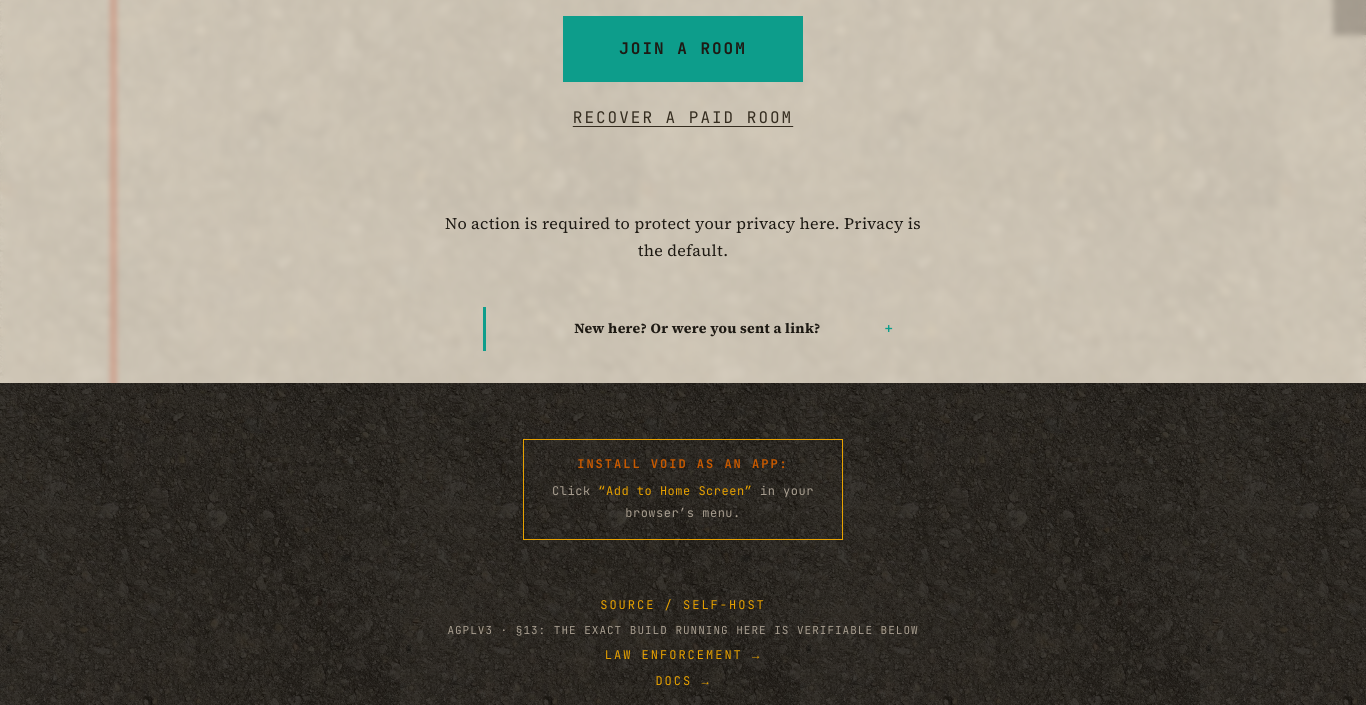
LandingPage narrative order and copy › collapses the on-ramp by default and expands it on click
(page scrolled)
Check: the text "You’re in the right place." is not shown
Click the button with test id "on-ramp-toggle". click: x=698, y=329
box: 502,319 -> 893,339
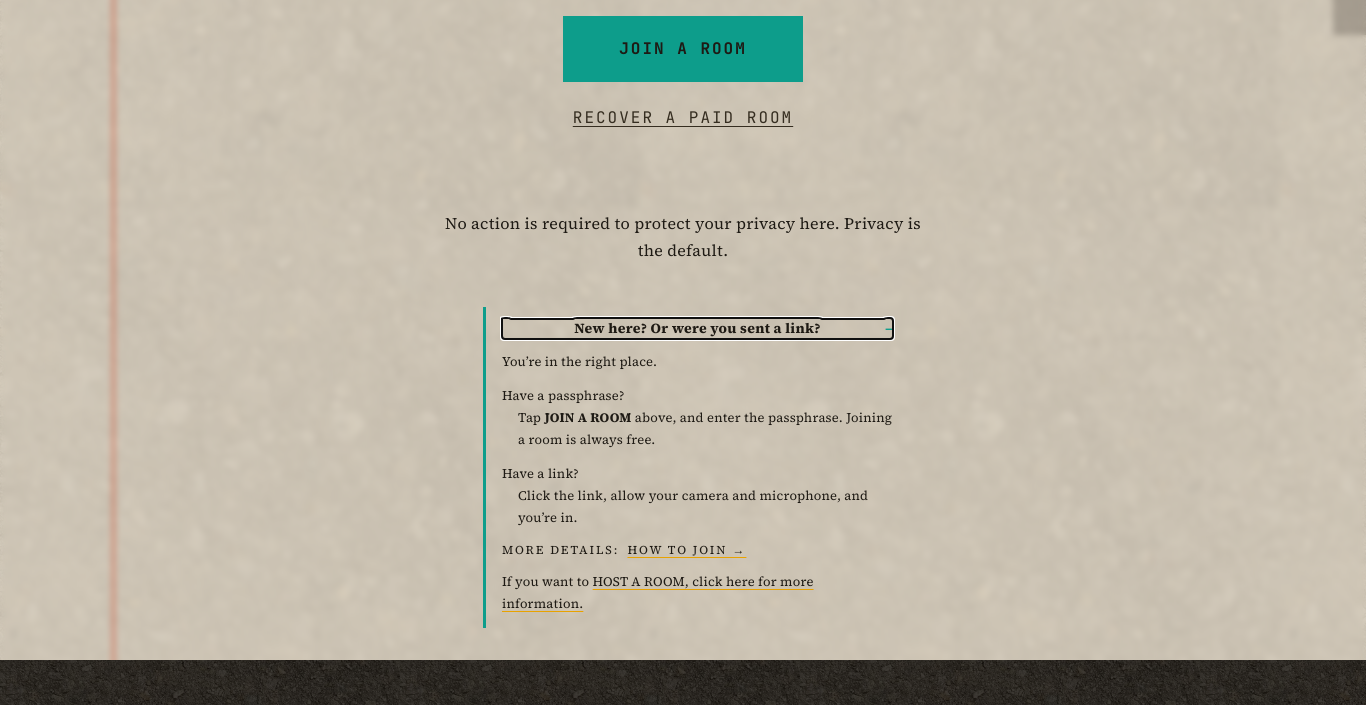
Check: the button with test id "on-ramp-toggle" is expanded, box 502,319 -> 893,339
Check: the text "You’re in the right place." is shown, box 502,353 -> 657,370
